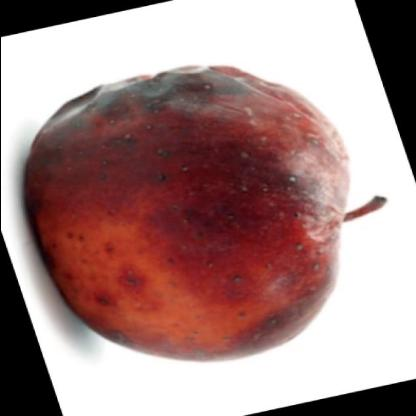defect: (23, 64, 346, 364)
